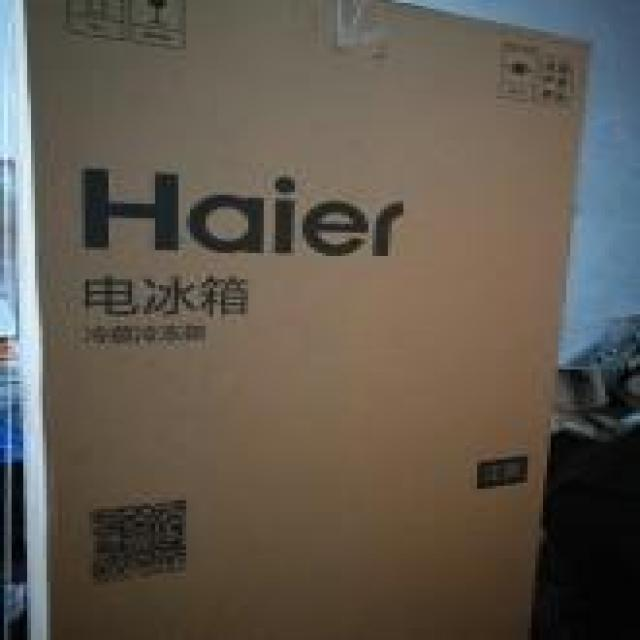cardboard: (15, 0, 589, 640)
